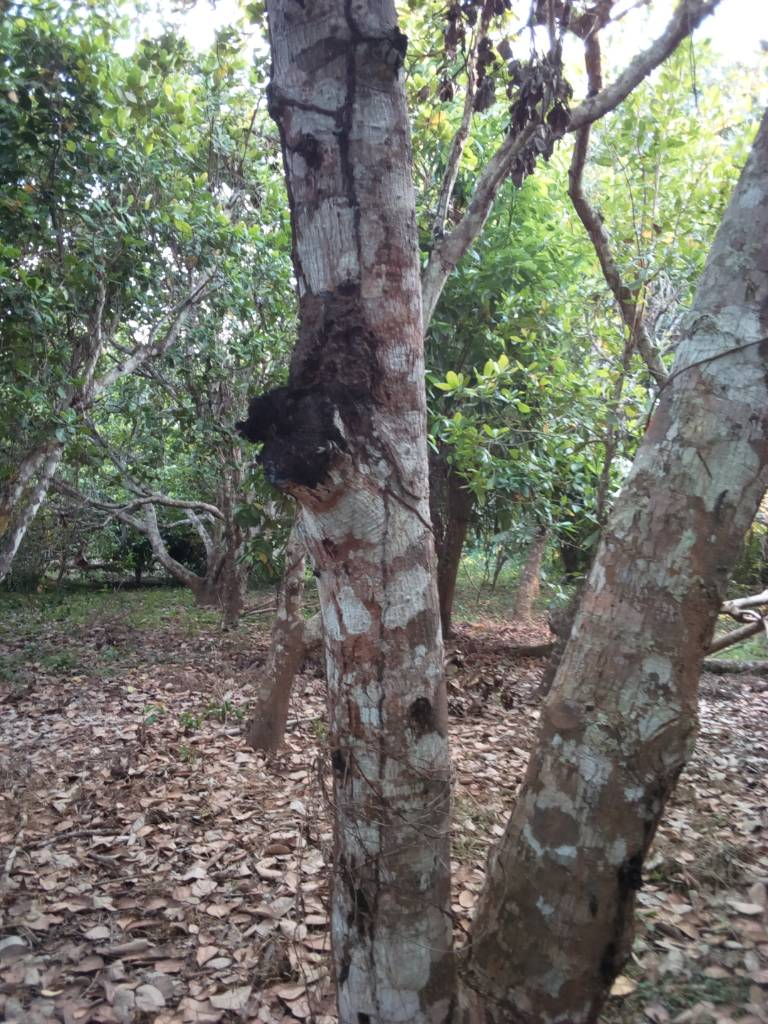Termites: (293, 286, 374, 402)
